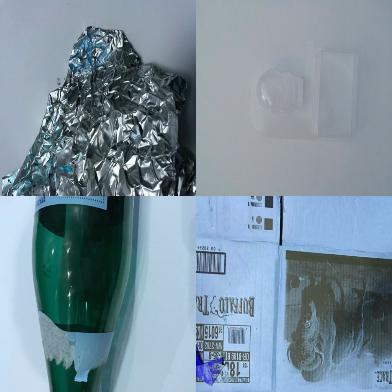cardboard: (196, 197, 392, 392)
glass: (31, 197, 133, 392)
metal: (2, 27, 196, 195)
plastic: (248, 47, 358, 139)
